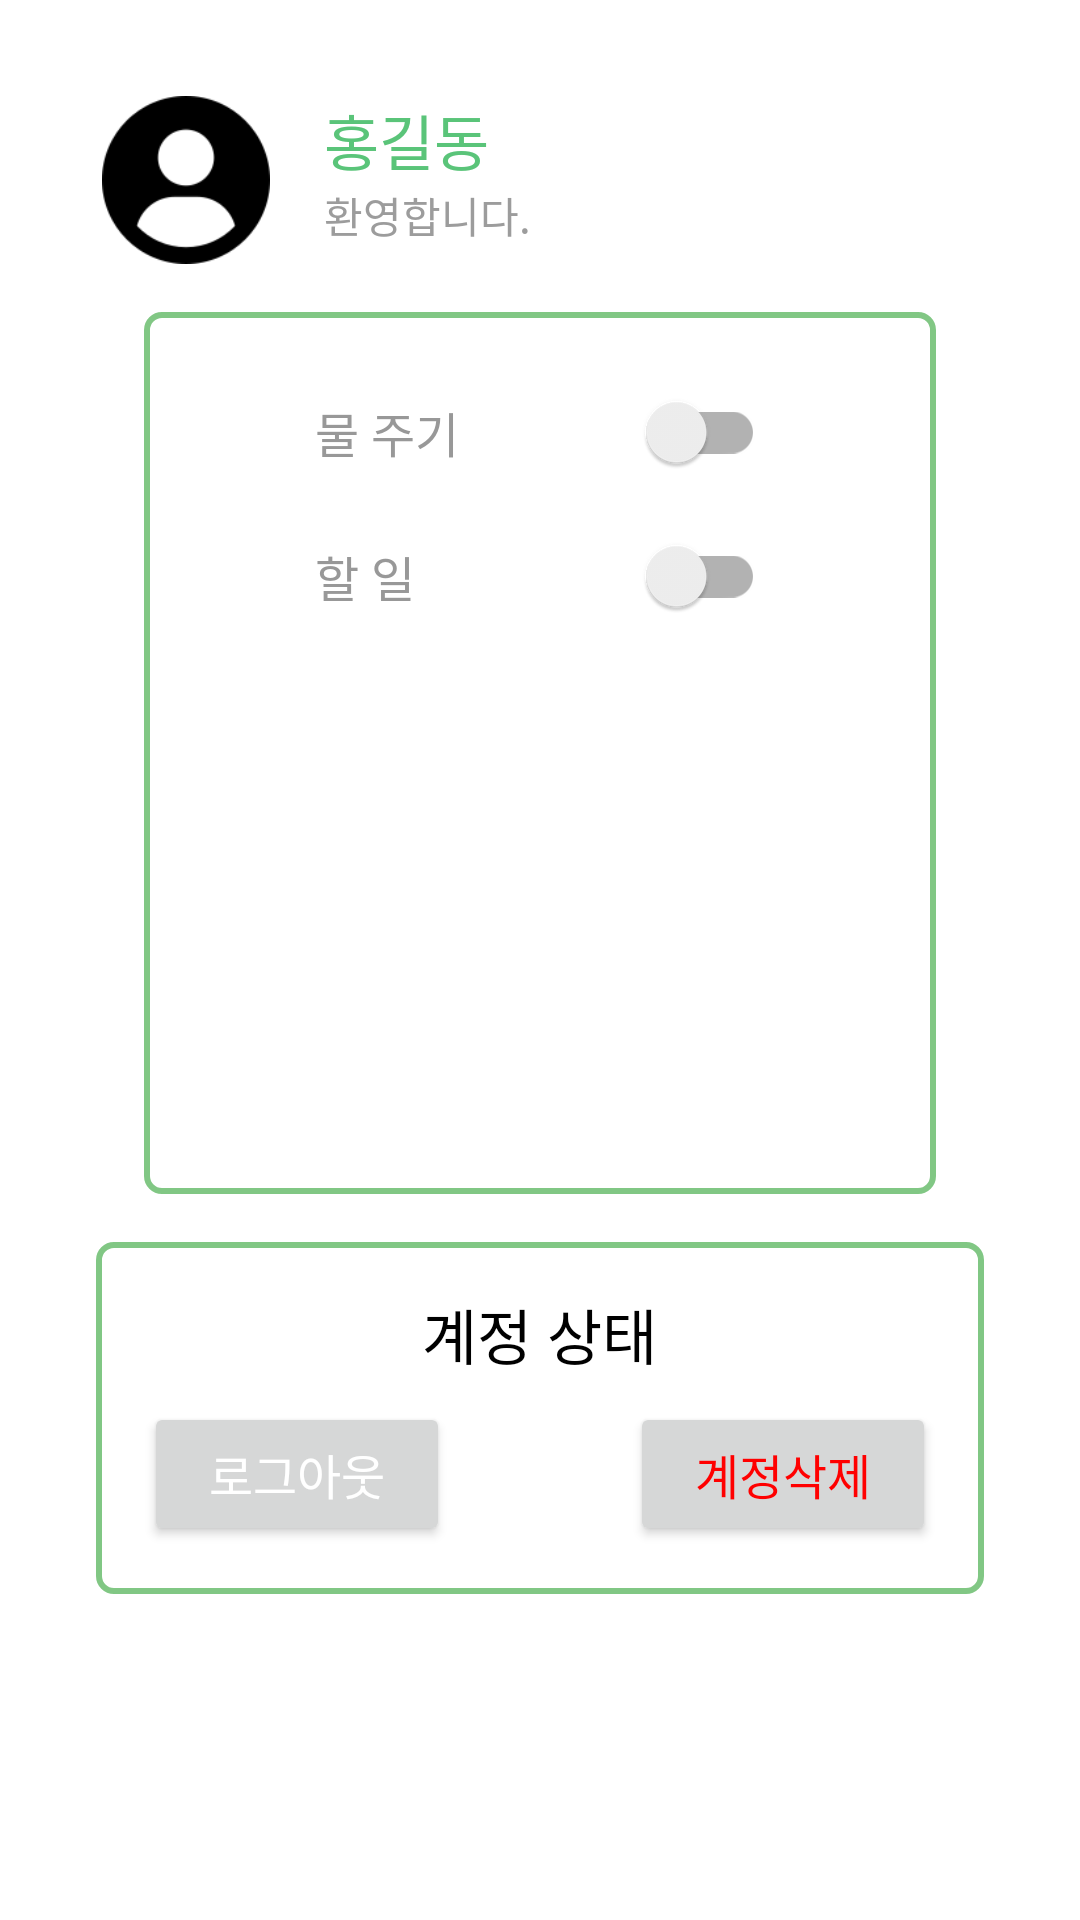

Point at icon controls on the screen. Image size 1080*1920, points as (x,y).
mypage profile: (186,180)
